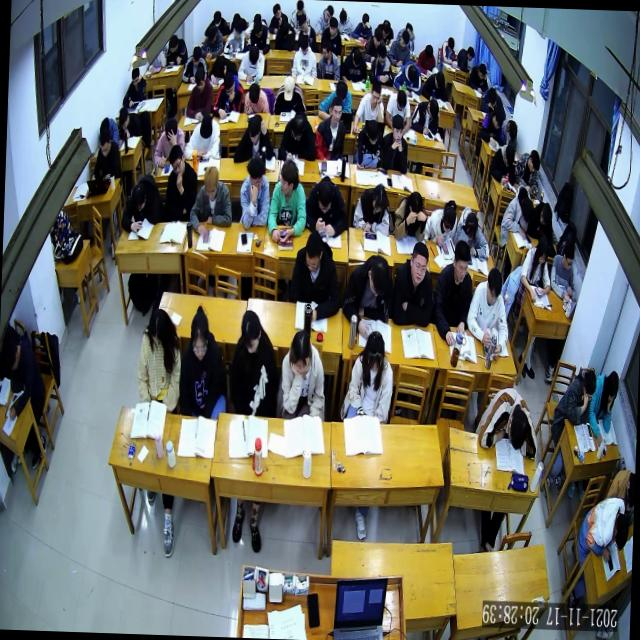bow: (472, 381, 540, 460), (120, 170, 164, 230), (232, 112, 274, 164), (452, 204, 490, 260), (316, 78, 352, 122), (392, 58, 422, 97), (528, 198, 554, 241), (420, 70, 450, 102), (117, 106, 146, 139), (242, 80, 270, 114), (207, 54, 236, 86), (481, 86, 506, 120), (164, 34, 188, 68), (274, 18, 296, 50)
down: (189, 308, 210, 362), (366, 254, 391, 298), (288, 330, 311, 374), (506, 406, 530, 448), (240, 308, 262, 352), (364, 328, 385, 372), (146, 306, 168, 346), (304, 229, 324, 273), (246, 154, 265, 191), (316, 178, 334, 214), (0, 336, 19, 369), (613, 512, 629, 551), (167, 142, 185, 176), (202, 165, 218, 202), (486, 267, 502, 304), (406, 190, 424, 222), (603, 368, 618, 403), (440, 200, 456, 232), (130, 182, 147, 212), (582, 367, 596, 403), (371, 182, 386, 214), (290, 112, 306, 140), (247, 115, 262, 144), (534, 236, 548, 266), (464, 210, 478, 239), (282, 73, 296, 101), (198, 112, 212, 140), (562, 242, 576, 270), (222, 70, 235, 98), (164, 114, 178, 140), (364, 119, 378, 145), (520, 196, 534, 222), (193, 66, 206, 92), (98, 126, 110, 154), (538, 200, 552, 224), (333, 80, 348, 102), (394, 88, 408, 111), (528, 148, 540, 174), (504, 142, 516, 166), (298, 32, 310, 54), (375, 43, 387, 65), (426, 98, 439, 118), (118, 105, 129, 128), (166, 34, 178, 54), (214, 58, 226, 78), (248, 46, 260, 66), (433, 70, 445, 90), (248, 82, 260, 102), (407, 61, 418, 81), (398, 29, 409, 49), (492, 108, 503, 128), (508, 119, 518, 141), (130, 67, 140, 87), (208, 24, 218, 44), (233, 20, 243, 40), (252, 18, 262, 38), (278, 18, 288, 38), (298, 11, 308, 31), (328, 16, 338, 36), (372, 28, 382, 48), (487, 88, 497, 108), (191, 44, 200, 66), (338, 5, 347, 25), (351, 49, 361, 67), (360, 12, 370, 30), (382, 18, 391, 38), (423, 40, 432, 60), (272, 2, 282, 18), (324, 4, 334, 20), (446, 34, 454, 53), (212, 8, 221, 24), (478, 62, 486, 80), (466, 45, 474, 62), (295, 0, 304, 15)
lookup: (408, 241, 428, 284), (451, 238, 470, 283), (390, 111, 405, 142), (329, 94, 343, 123), (370, 80, 380, 107)
sit: (178, 302, 228, 418), (227, 307, 280, 415), (286, 228, 342, 323), (134, 305, 182, 412), (340, 326, 394, 419), (431, 234, 474, 344), (278, 324, 326, 418), (342, 249, 393, 337), (0, 332, 47, 423), (465, 267, 510, 361), (389, 239, 435, 328), (576, 493, 631, 562), (266, 156, 307, 245), (188, 164, 234, 234), (304, 170, 348, 237), (163, 143, 198, 222), (550, 366, 596, 426), (238, 154, 272, 230), (587, 367, 619, 444), (313, 90, 347, 159), (276, 106, 317, 160), (520, 234, 552, 302), (351, 178, 391, 232), (182, 111, 222, 161), (500, 182, 534, 240), (379, 112, 409, 174), (392, 188, 427, 241), (352, 79, 384, 136), (152, 116, 186, 168), (549, 240, 576, 300), (272, 70, 307, 116), (212, 70, 244, 120), (426, 199, 458, 248), (92, 130, 123, 180), (186, 66, 214, 121), (353, 115, 382, 167), (384, 87, 412, 133), (290, 32, 318, 77), (514, 146, 540, 194), (488, 140, 516, 184), (479, 106, 507, 148), (368, 40, 394, 85), (409, 96, 441, 132), (236, 44, 266, 82), (181, 44, 209, 84), (316, 40, 342, 80), (340, 44, 368, 81), (122, 65, 146, 106), (388, 26, 412, 66), (361, 26, 386, 64), (245, 16, 271, 52), (320, 15, 342, 56), (222, 18, 246, 54), (296, 12, 317, 52), (200, 22, 223, 58), (203, 8, 230, 38), (415, 40, 436, 77), (467, 61, 489, 96), (438, 34, 458, 70), (350, 11, 373, 42), (268, 2, 289, 35), (500, 114, 518, 150), (314, 4, 334, 36), (456, 42, 476, 72), (288, 0, 305, 34), (376, 14, 394, 46), (336, 7, 355, 34)
